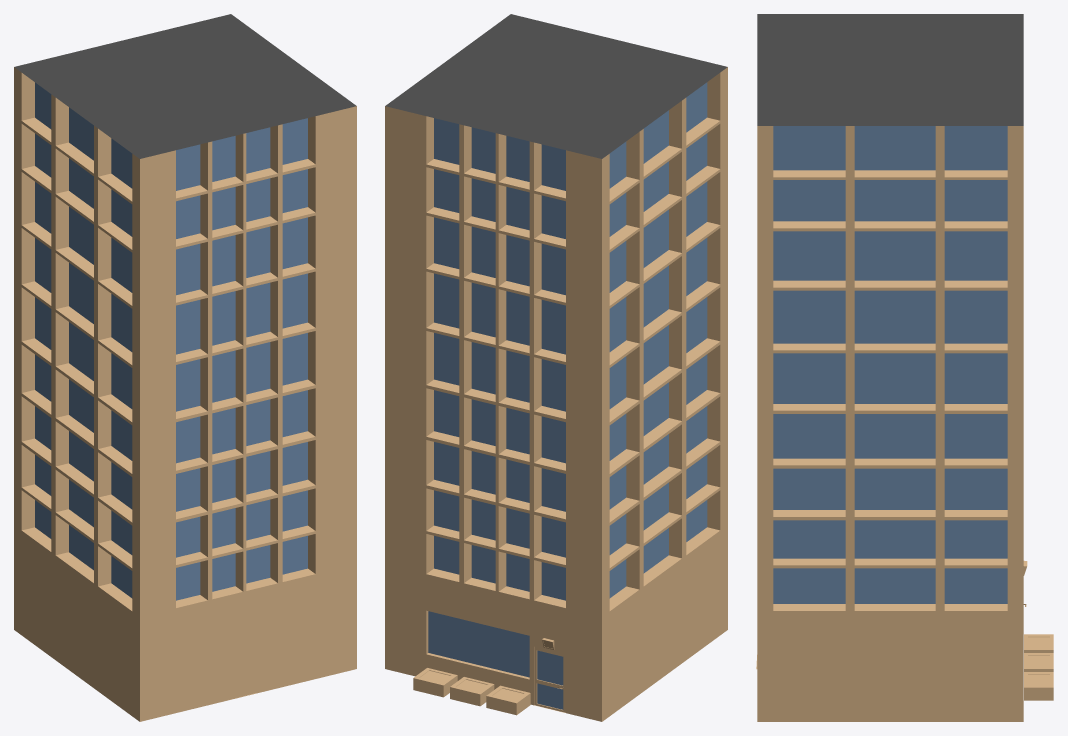
The model's file is Building_Orange.fbx.
3 views of the same model, side by side, from view 1: azimuth 30°, elevation 25°; view 2: azimuth 150°, elevation 25°; view 3: azimuth 270°, elevation 25° (orthographic). The views are drawn at different scales.
Visible parts, largest first — view 1: Building_Orange; view 2: Building_Orange; view 3: Building_Orange.
Part boxes in pixels (box(x1,y1,x2,y2)): Building_Orange: box(14, 14, 356, 721); Building_Orange: box(385, 14, 727, 721); Building_Orange: box(756, 14, 1053, 721).
Size of the model in its own units: 3.99 by 9.91 by 4.47.
